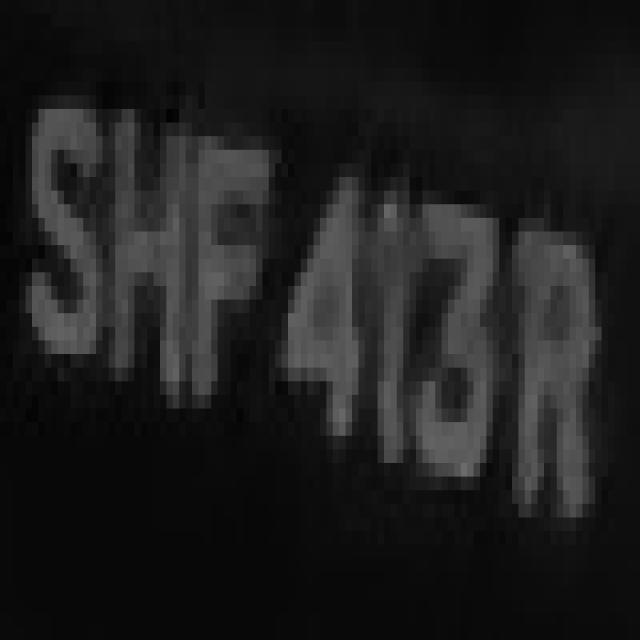1: (358, 123, 442, 531)
3: (422, 136, 512, 518)
4: (282, 122, 371, 504)
F: (179, 68, 275, 436)
H: (102, 95, 186, 436)
R: (493, 163, 614, 545)
S: (13, 41, 115, 449)
